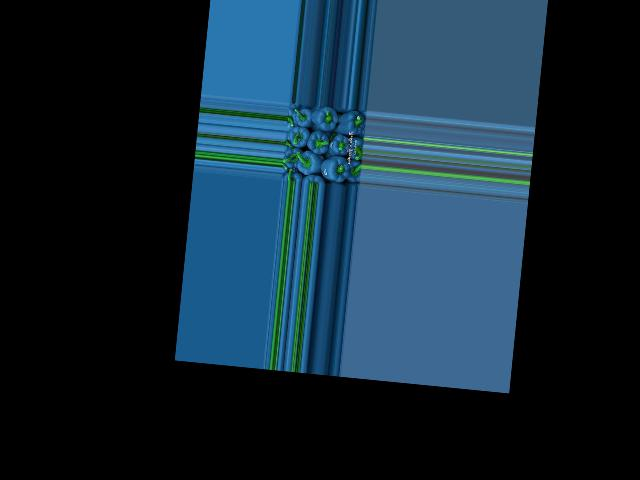bell_pepper: (343, 158, 362, 186)
